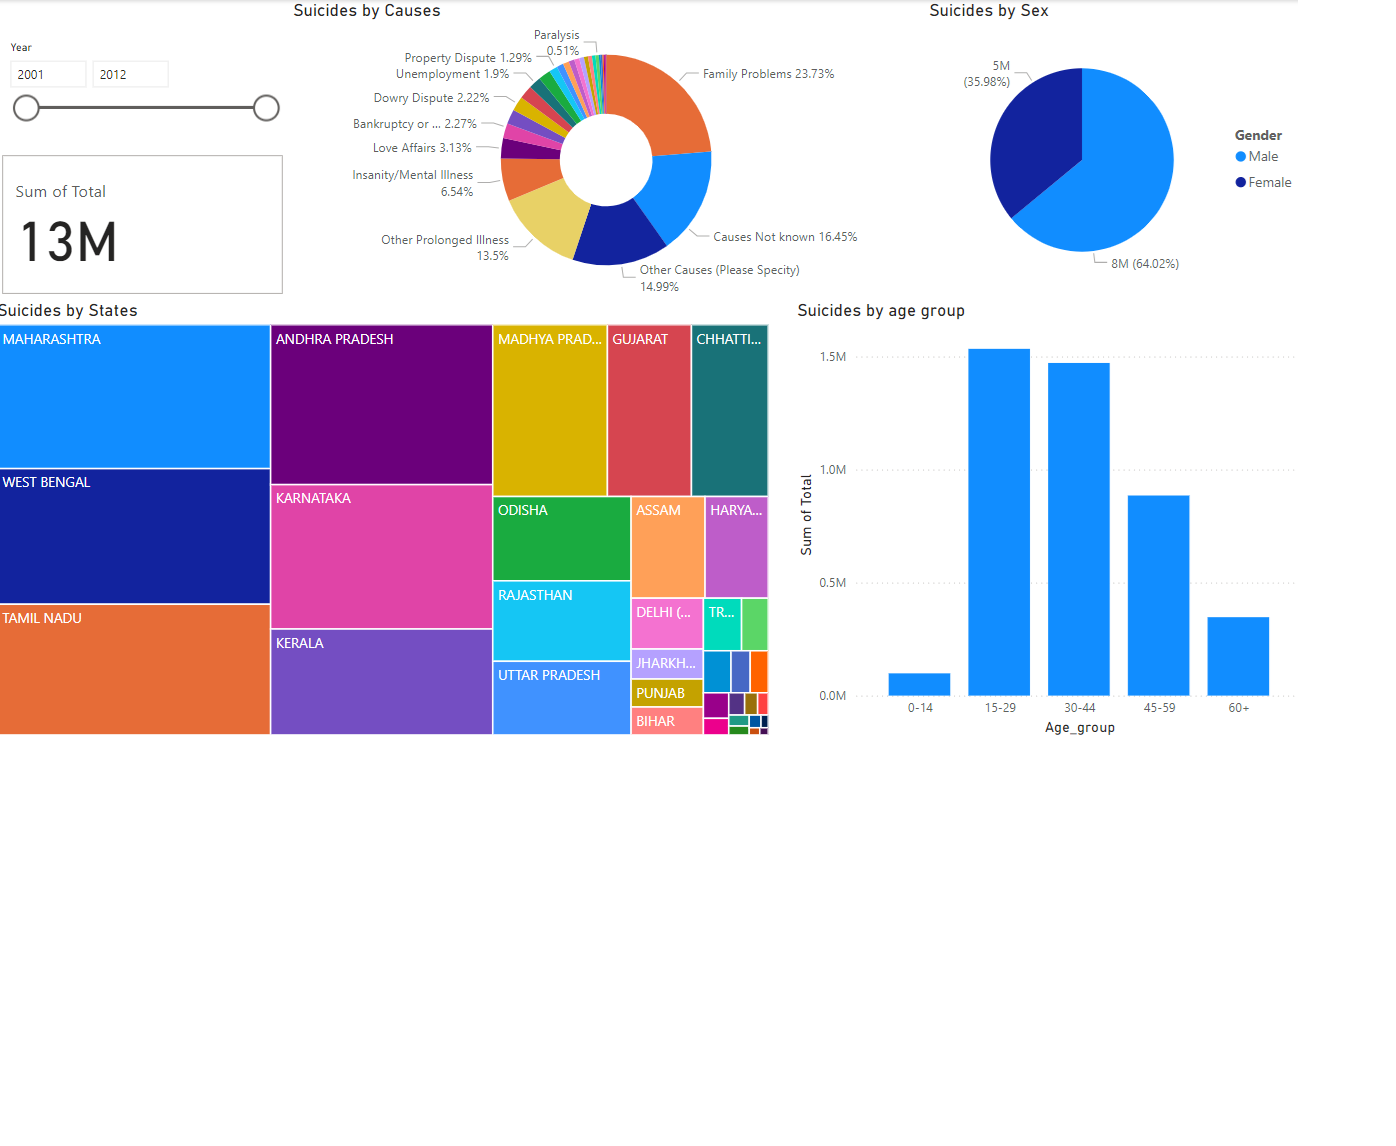

Layout of this report page (visuals, bound fields, positions):
{"tool":"powerbi","page":{"name":"Summary","canvas":[1280,720],"ordinal":1},"visuals":[{"type":"cardVisual","fields":{"Data":["Sum(Suicides_in_India.Total)"]},"box":[4.9,145.9,283,145.9],"z":0},{"type":"treemap","title":"Suicides by States","fields":{"Values":["Sum(Suicides_in_India.Total)"],"Group":["Suicides_in_India.State"]},"box":[0,292,760,428],"z":1000},{"type":"pieChart","title":"Suicides by Sex","fields":{"Category":["Suicides_in_India.Gender"],"Y":["Sum(Suicides_in_India.Total)"]},"box":[906.7,0,373.3,292.2],"z":2000},{"type":"slicer","fields":{"Values":["Suicides_in_India.Year.Variation.Date Hierarchy.Year"]},"box":[4.9,35,283,110.9],"z":3000},{"type":"columnChart","title":"Suicides by age group","fields":{"Category":["Suicides_in_India.Age_group"],"Y":["Sum(Suicides_in_India.Total)"]},"box":[777.8,292.2,502.2,427.8],"z":4000},{"type":"donutChart","title":"Suicides by Causes","fields":{"Category":["Suicides_in_India.Type"],"Y":["Sum(Suicides_in_India.Total)"]},"box":[287.8,0,618.9,292.2],"z":5000}]}

Visuals, with their boxes on the page's 1280x720 design canvas (x1, y1, x2, y2). These are canvas units, not pixel positions in the 1396x1146 screenshot, which may show the page scaled, cropped or inside an application window:
cardVisual - Sum(Suicides_in_India.Total): [5, 146, 288, 292]
"Suicides by States" treemap: [0, 292, 760, 720]
"Suicides by Sex" pieChart: [907, 0, 1280, 292]
slicer - Suicides_in_India.Year.Variation.Date Hierarchy.Year: [5, 35, 288, 146]
"Suicides by age group" columnChart: [778, 292, 1280, 720]
"Suicides by Causes" donutChart: [288, 0, 907, 292]
